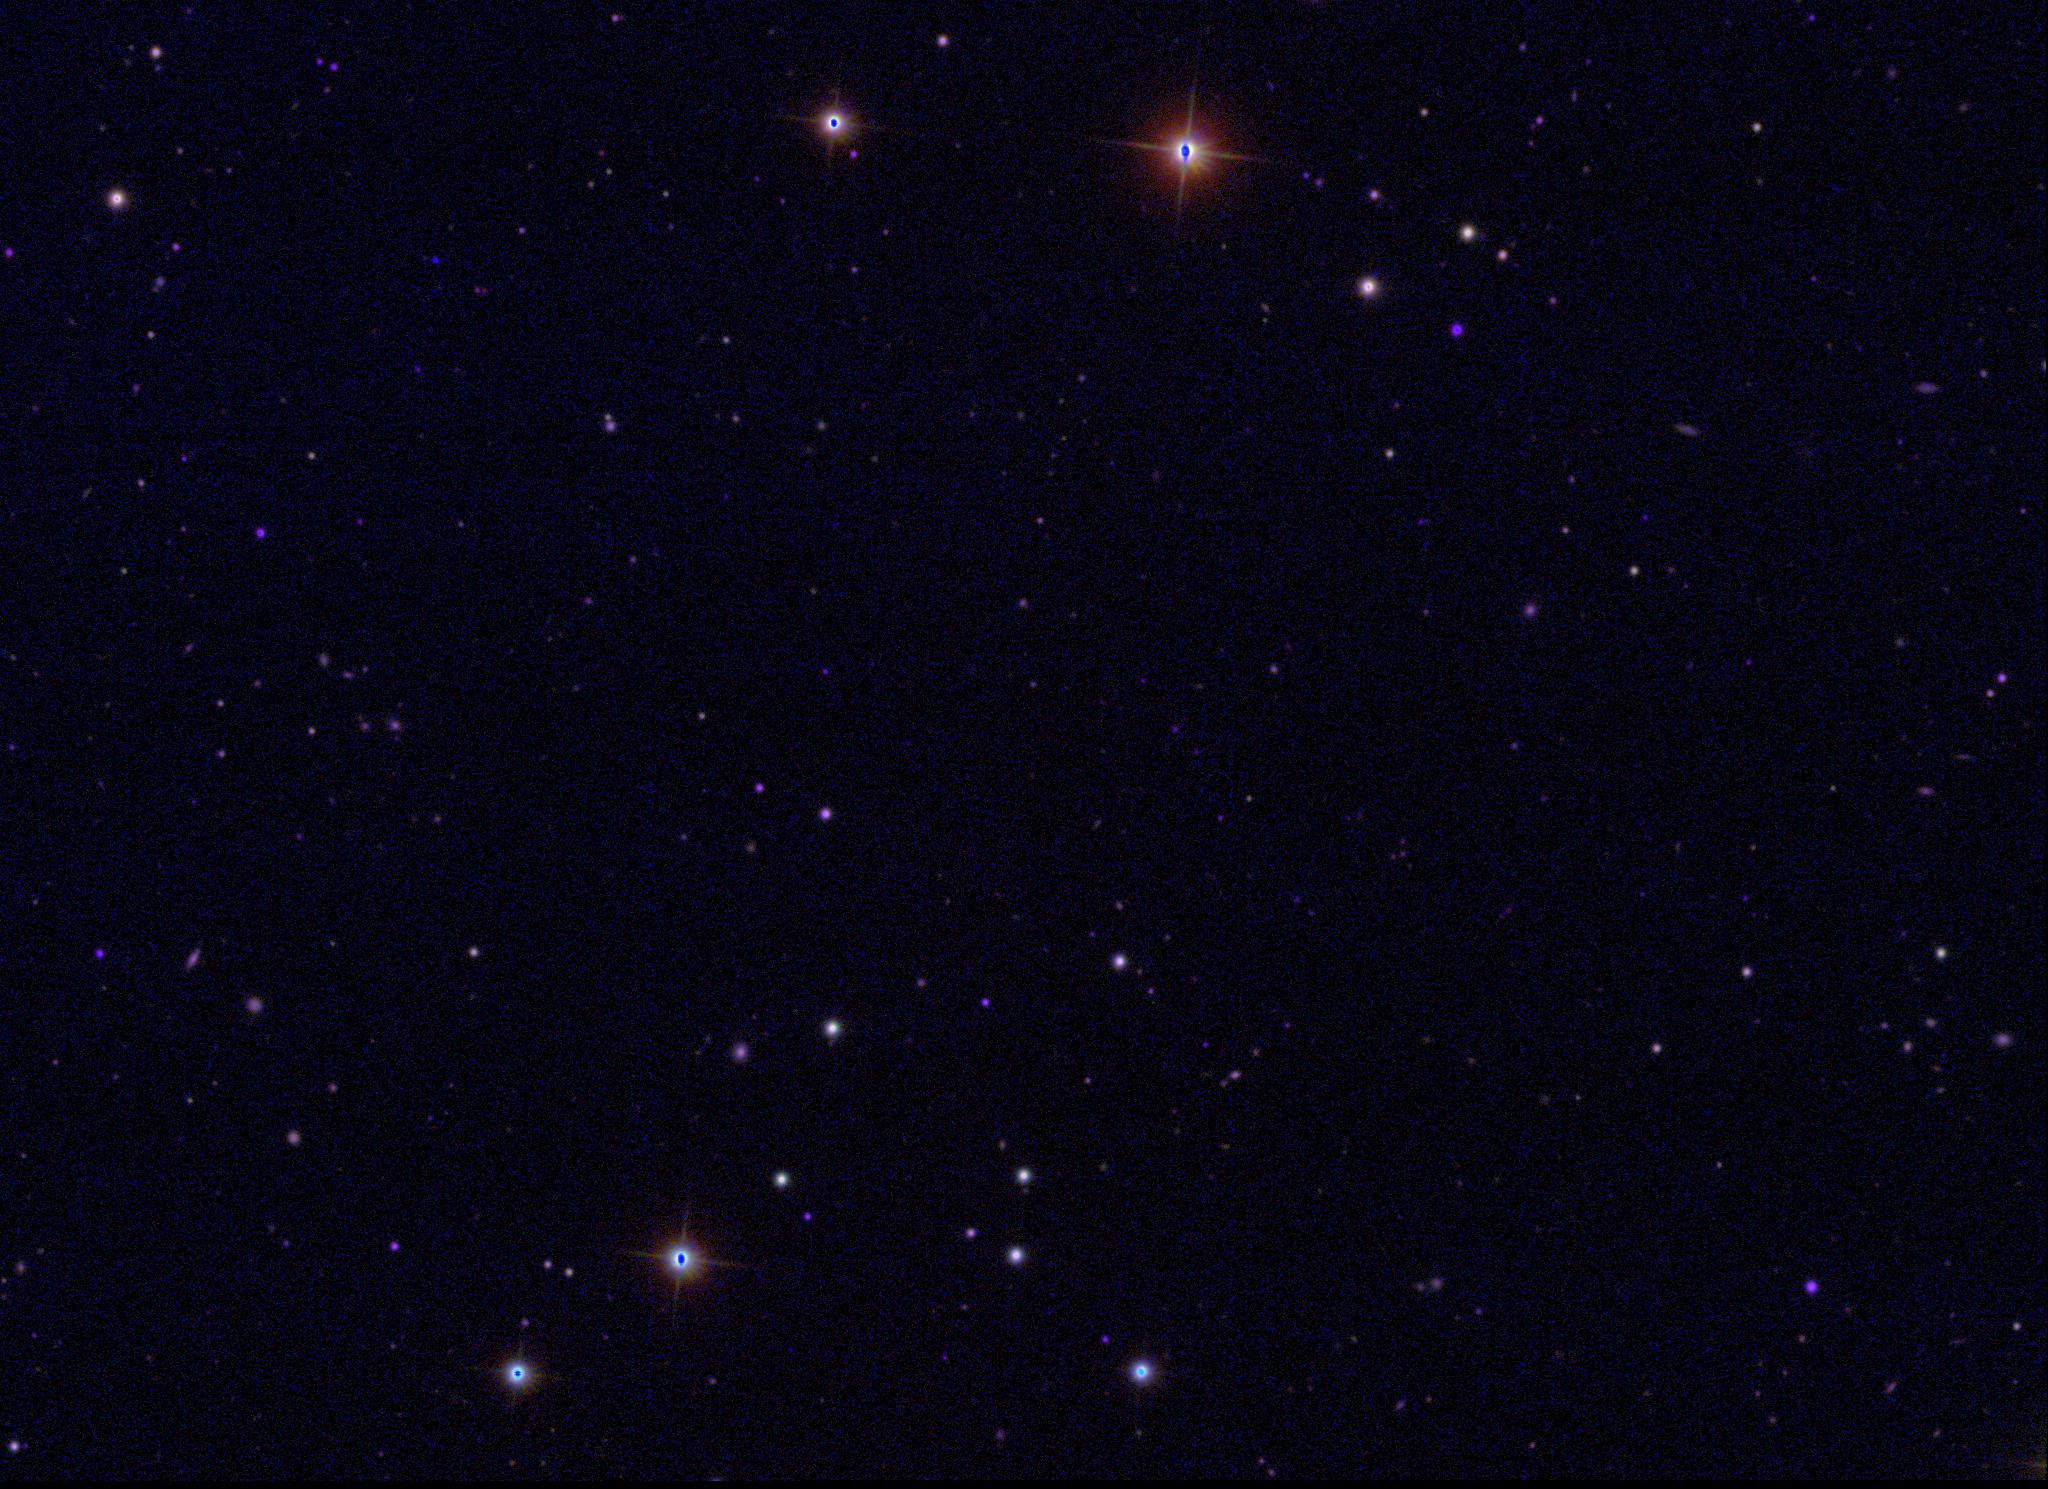L: (429, 253, 444, 267)
